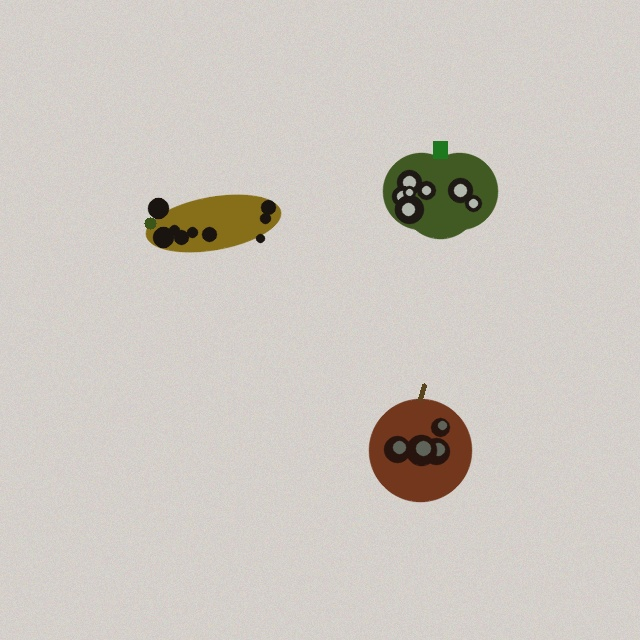Rotten apple: (369, 385, 471, 501)
Rotten banana: (142, 191, 284, 255)
Rotten bell pepper: (383, 141, 497, 238)
